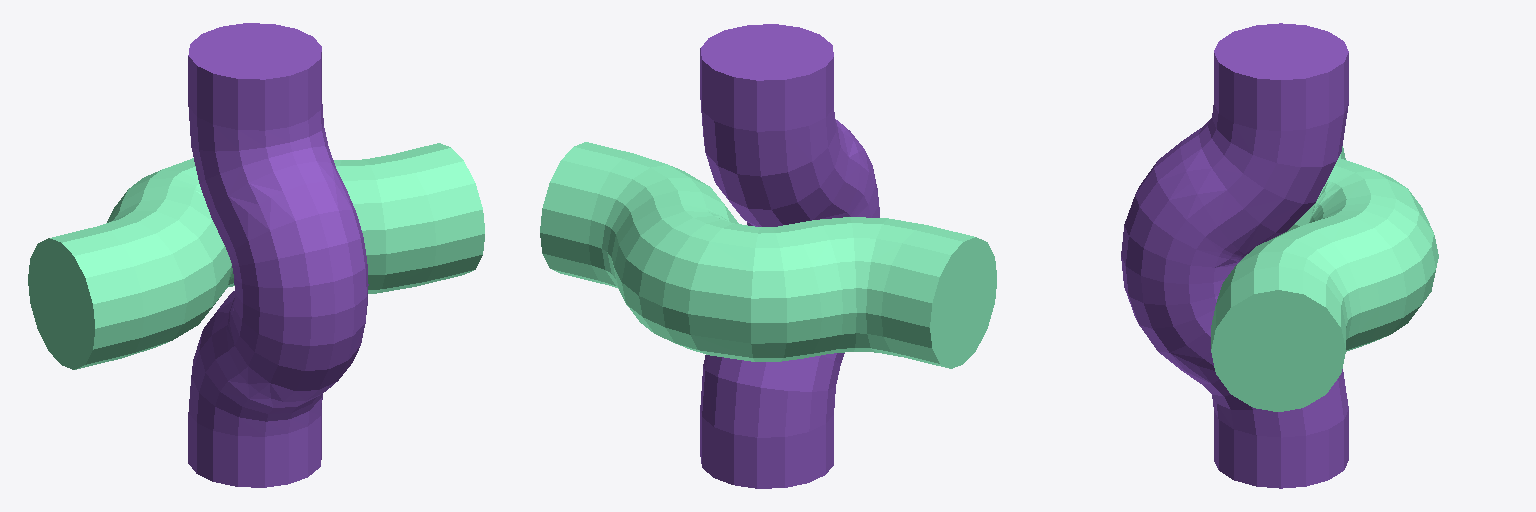
The model's file is warpup.obj.
3 views of the same model, side by side, from view 1: azimuth 30°, elevation 25°; view 2: azimuth 150°, elevation 25°; view 3: azimuth 270°, elevation 25° (orthographic).
Visible parts, largest first — view 1: object_2, object_1; view 2: object_1, object_2; view 3: object_2, object_1.
Boxes of the visible parts, x1,y1,x2,y2 form: object_2: [188, 23, 368, 487]; object_1: [28, 143, 484, 369]; object_1: [540, 142, 996, 368]; object_2: [700, 24, 879, 488]; object_2: [1121, 23, 1348, 488]; object_1: [1211, 146, 1438, 411].
Size of the model in its own units: 10 by 10 by 7.06.